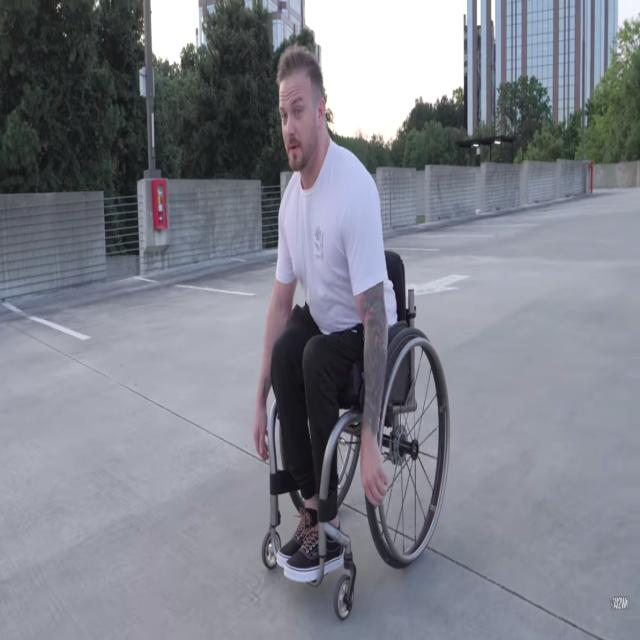wheelchairs: (262, 253, 448, 617)
